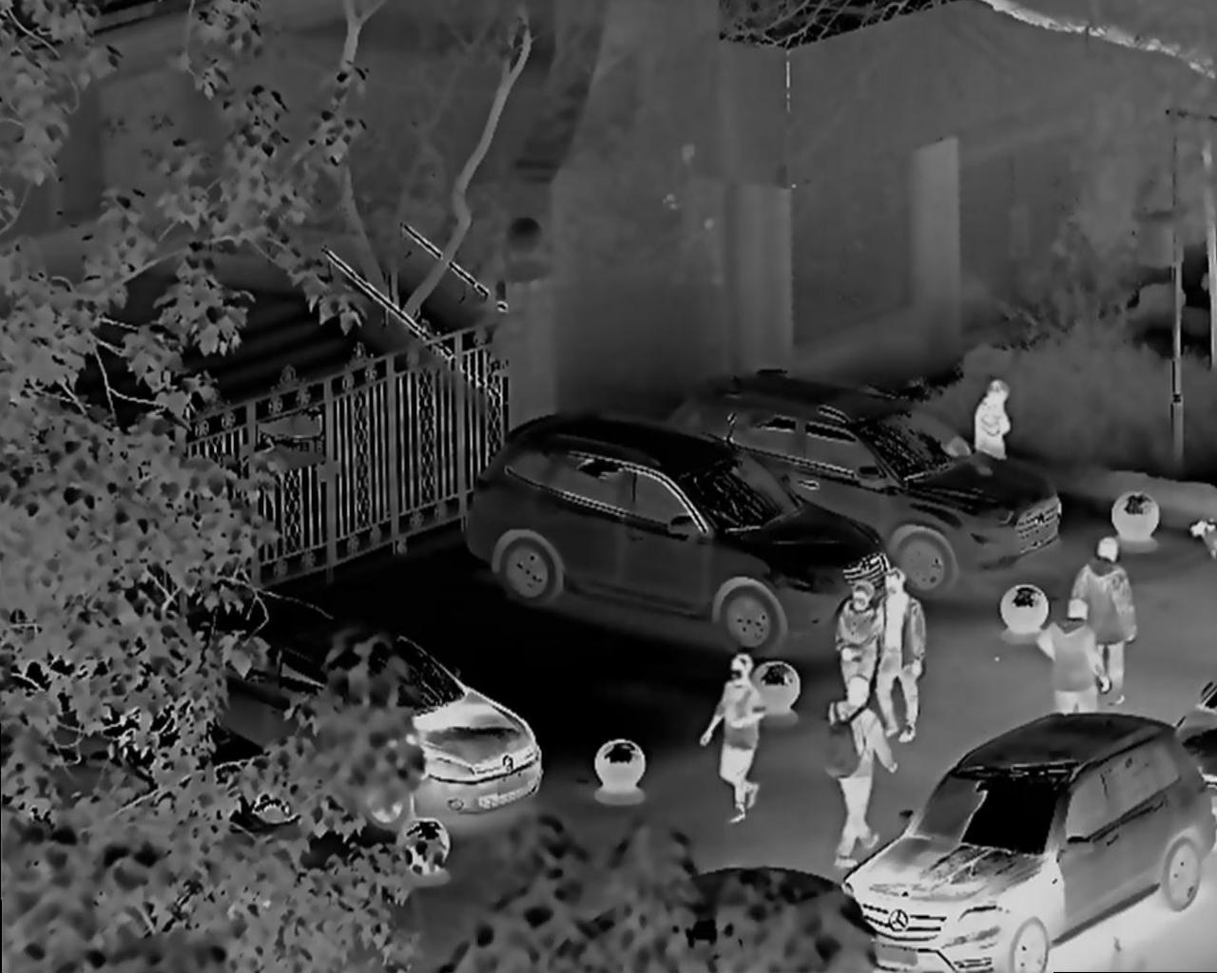person: (700, 648, 771, 837), (823, 666, 883, 870), (869, 564, 928, 760), (1078, 530, 1135, 706), (1043, 590, 1096, 736), (965, 373, 1024, 494), (843, 574, 873, 729)
